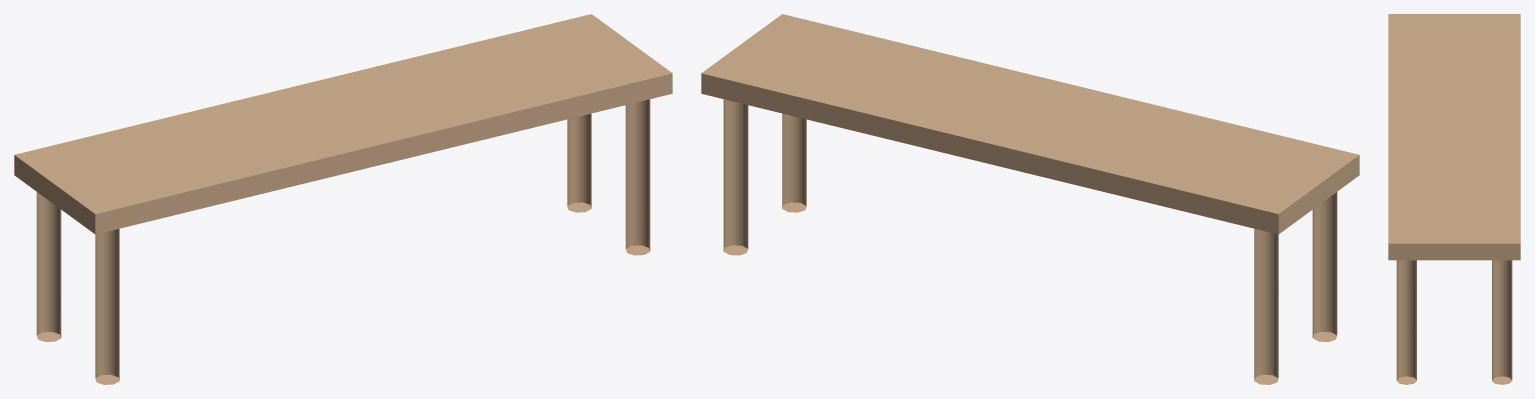
The model's file is bench_09.glb.
3 views of the same model, side by side, from view 1: azimuth 30°, elevation 25°; view 2: azimuth 150°, elevation 25°; view 3: azimuth 270°, elevation 25° (orthographic). The views are drawn at different scales.
Bounding box in the file's own units: 1.48 × 0.44 × 0.36.
